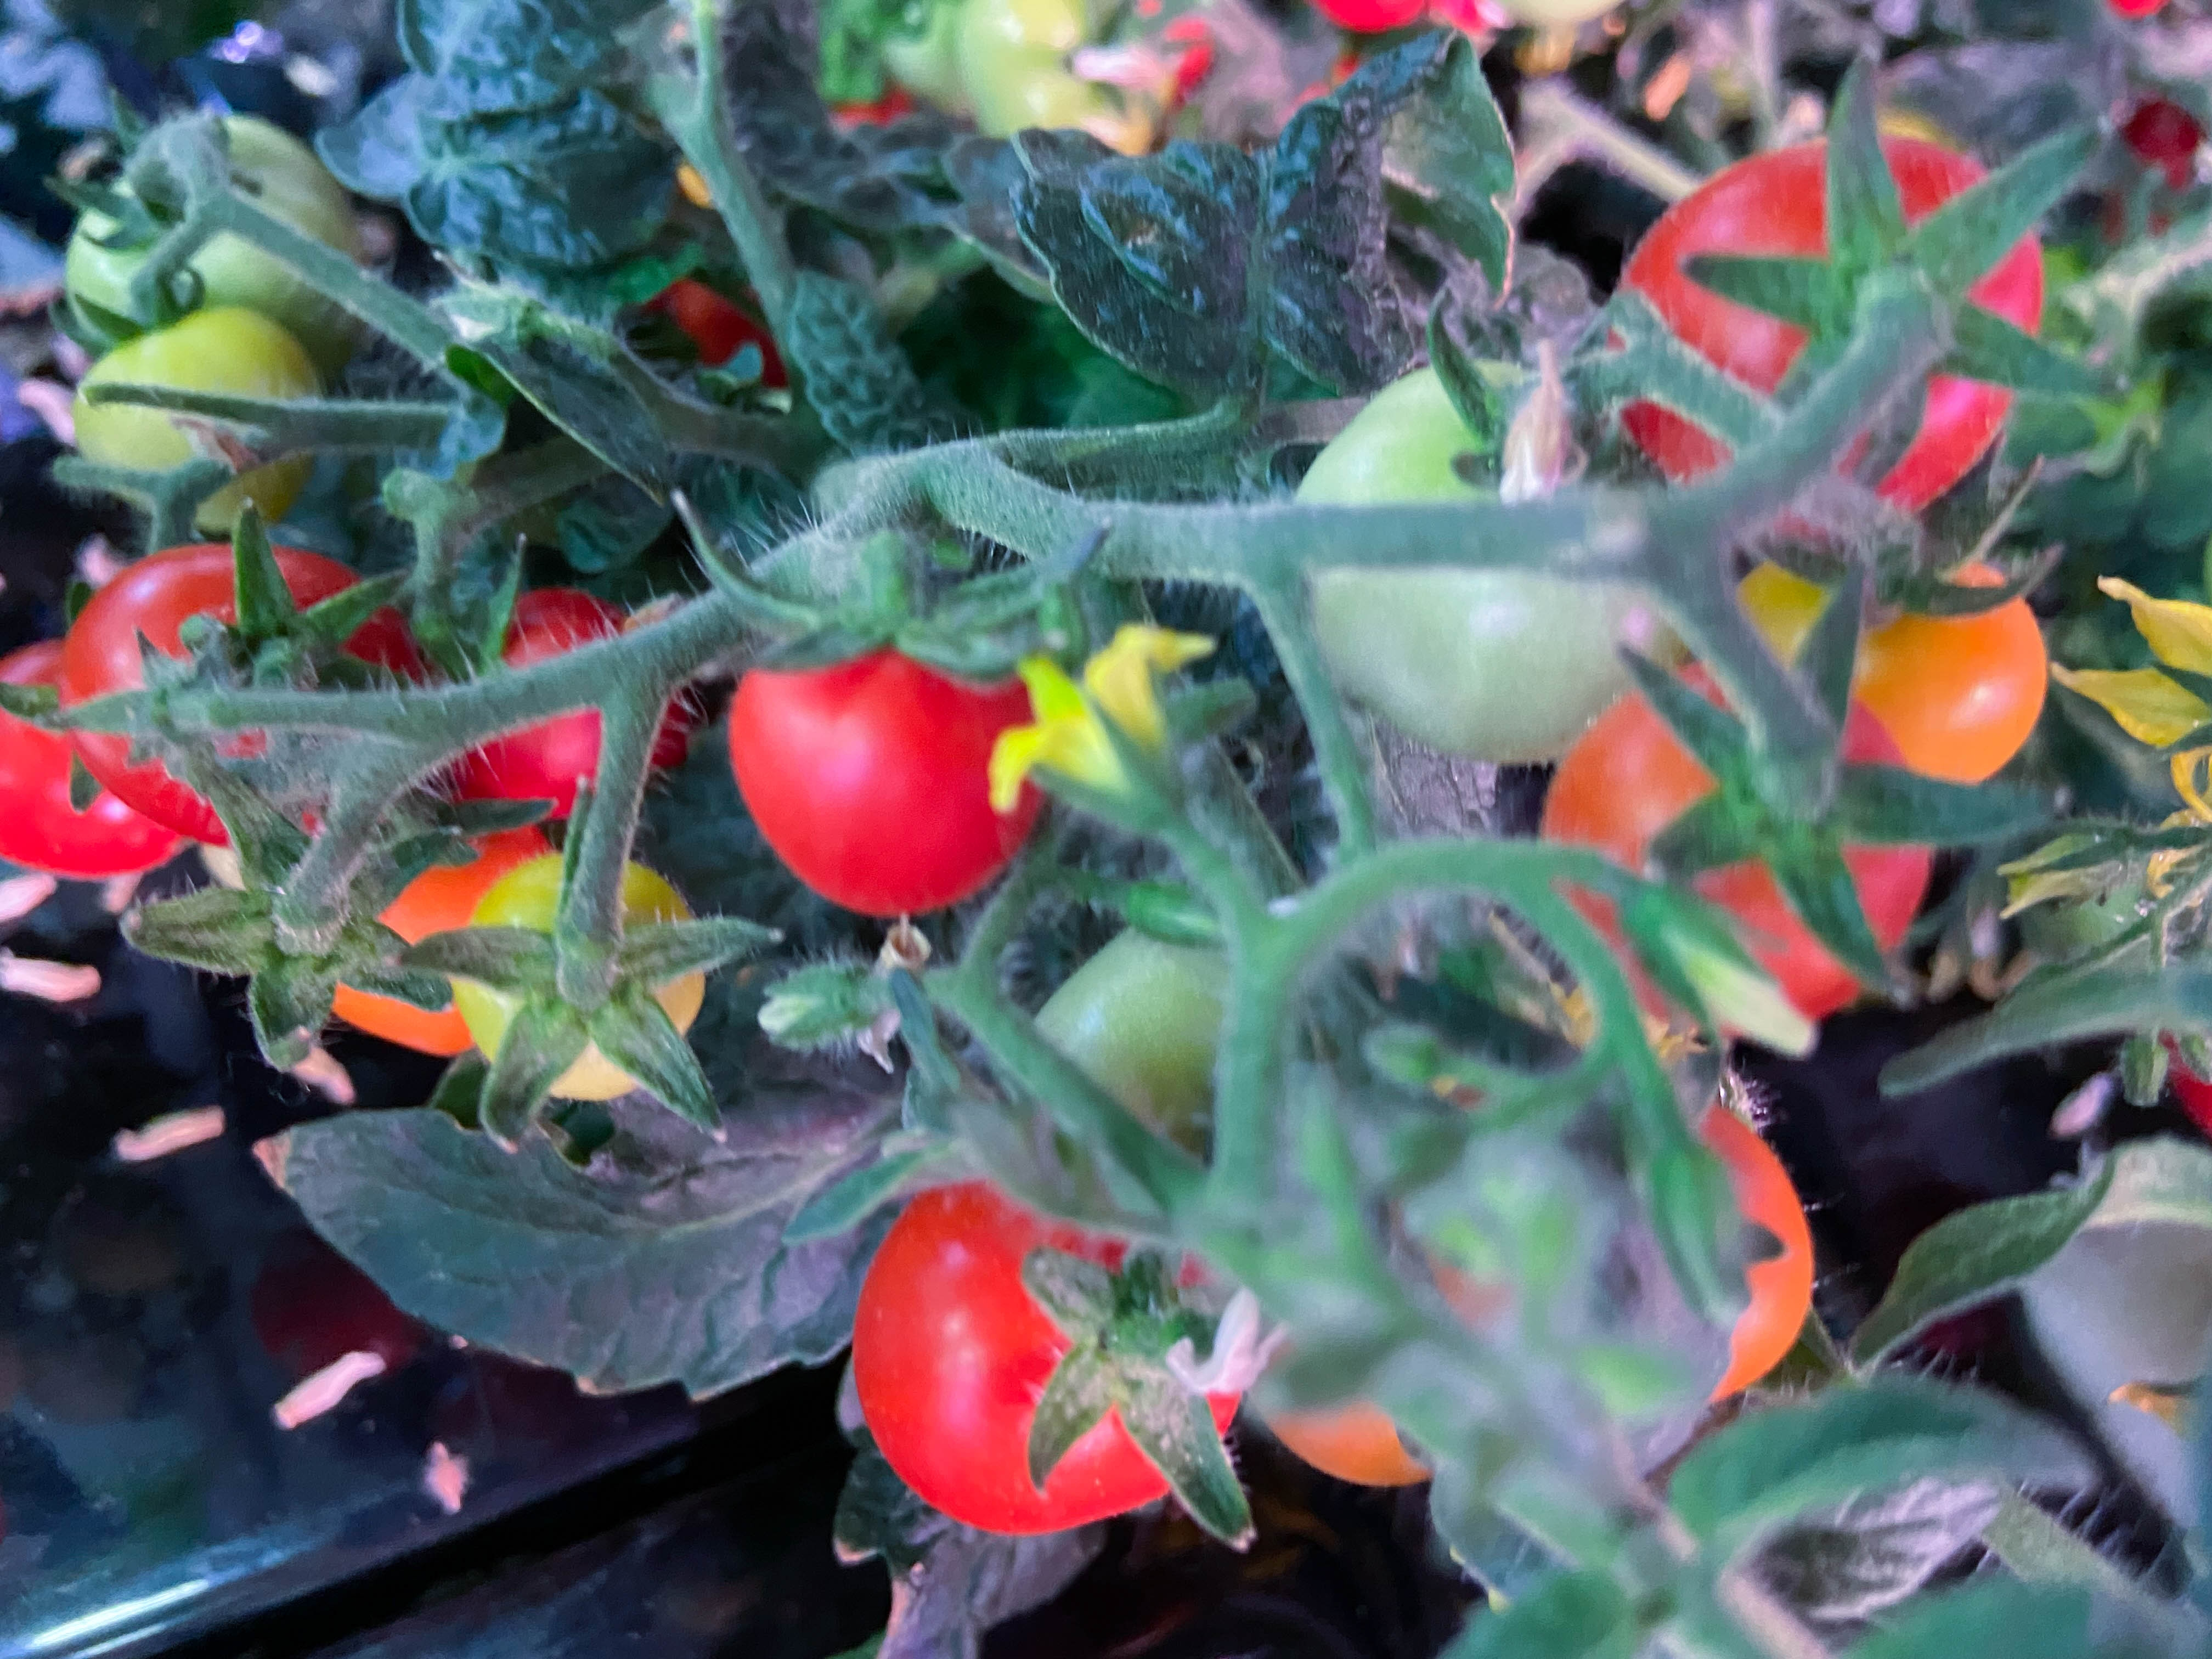green: (1289, 350, 1677, 769), (1017, 911, 1264, 1194), (64, 113, 368, 340), (68, 305, 331, 512), (954, 0, 1132, 139)
red: (1620, 120, 2036, 519), (1541, 653, 1933, 1040), (848, 1171, 1223, 1541), (61, 538, 428, 849), (728, 622, 1049, 917), (1738, 538, 2052, 788), (1597, 1073, 1818, 1420), (434, 835, 705, 1103), (432, 582, 700, 821), (1139, 0, 1527, 134), (327, 835, 552, 1053), (0, 652, 186, 878), (622, 244, 826, 392), (1249, 1356, 1433, 1486), (2085, 66, 2212, 246), (2132, 985, 2212, 1155)
